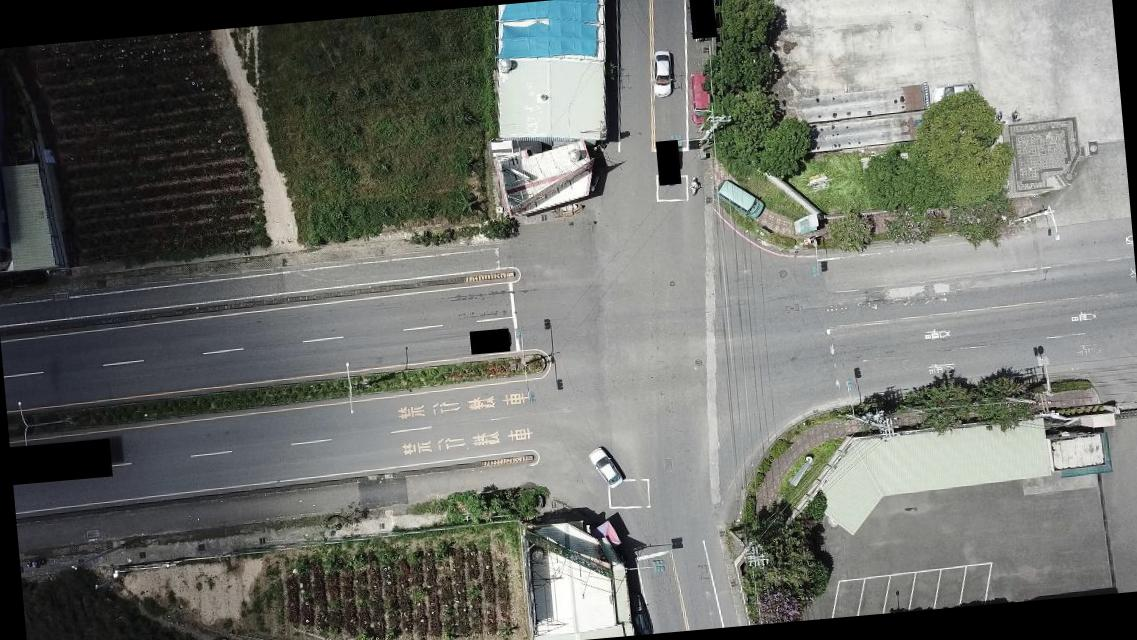vehicle: (715, 174, 766, 222), (585, 443, 621, 490), (686, 70, 711, 124), (650, 50, 675, 98), (628, 591, 655, 635), (933, 82, 977, 106)
